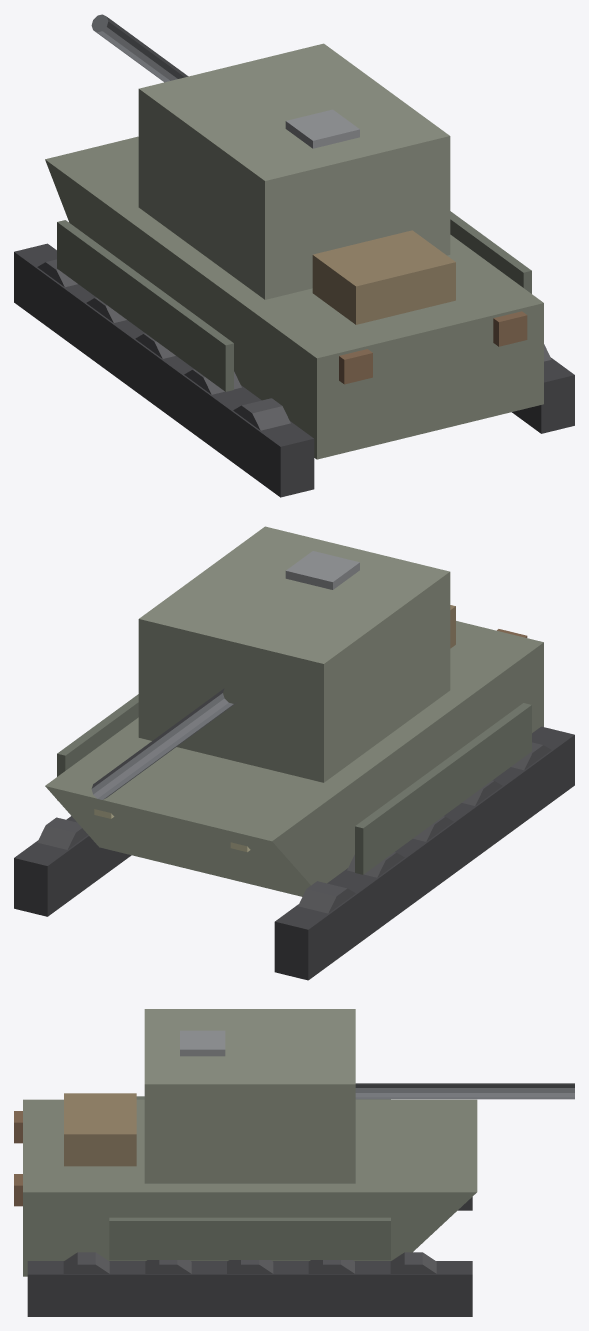
The model's file is chinese_tank.glb.
3 views of the same model, one above another, from view 1: azimuth 30°, elevation 25°; view 2: azimuth 150°, elevation 25°; view 3: azimuth 270°, elevation 25° (orthographic). The views are drawn at different scales.
Visible parts, largest first — view 1: turret, hull, track_l, stowage, skirt_l, track_r, barrel, skirt_r, hatch, wheel_l01, exhaust_r, exhaust_l; view 2: turret, hull, track_l, skirt_l, track_r, barrel, skirt_r, hatch, wheel_l05, wheel_r05; view 3: hull, turret, track_r, skirt_r, stowage, barrel, hatch, wheel_r05, wheel_r01, wheel_r02, wheel_r03, wheel_r04.
Part boxes in pixels (x1,y1,x2,y2): turret: (138,43,450,299); hull: (45,136,543,459); track_l: (14,243,314,497); stowage: (312,230,455,324); skirt_l: (57,220,233,391); track_r: (512,358,574,433); barrel: (91,14,188,82); skirt_r: (450,211,531,293); hatch: (285,109,359,148); wheel_l01: (233,398,290,430); exhaust_r: (493,311,527,346); exhaust_l: (339,349,372,384); turret: (138,526,450,782); hull: (45,621,543,896); track_l: (274,726,574,980); skirt_l: (355,703,531,874); track_r: (14,816,131,916); barrel: (91,688,237,799); skirt_r: (57,694,138,800); hatch: (285,551,359,589); wheel_l05: (298,881,355,913); wheel_r05: (37,817,87,849); hull: (23,1099,477,1276); turret: (144,1009,355,1183); track_r: (27,1261,472,1316); skirt_r: (109,1217,390,1259); stowage: (64,1093,136,1166); barrel: (355,1083,574,1099); hatch: (180,1030,225,1056); wheel_r05: (390,1252,436,1273); wheel_r01: (63,1252,109,1273); wheel_r02: (145,1260,191,1273); wheel_r03: (227,1260,273,1273); wheel_r04: (308,1260,354,1273).
Size of the model in its own units: 3.64 by 2.95 by 6.92.
